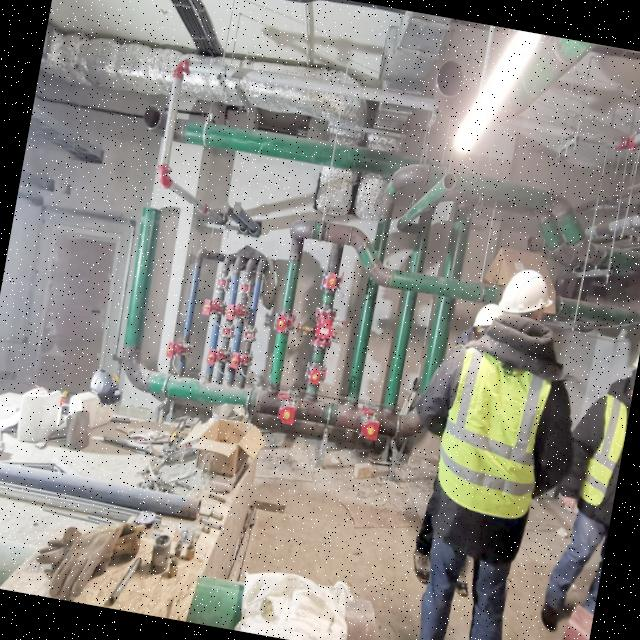Helmet: (495, 263, 559, 335), (472, 298, 504, 343)
Jacket: (440, 319, 563, 517), (581, 385, 634, 510)
